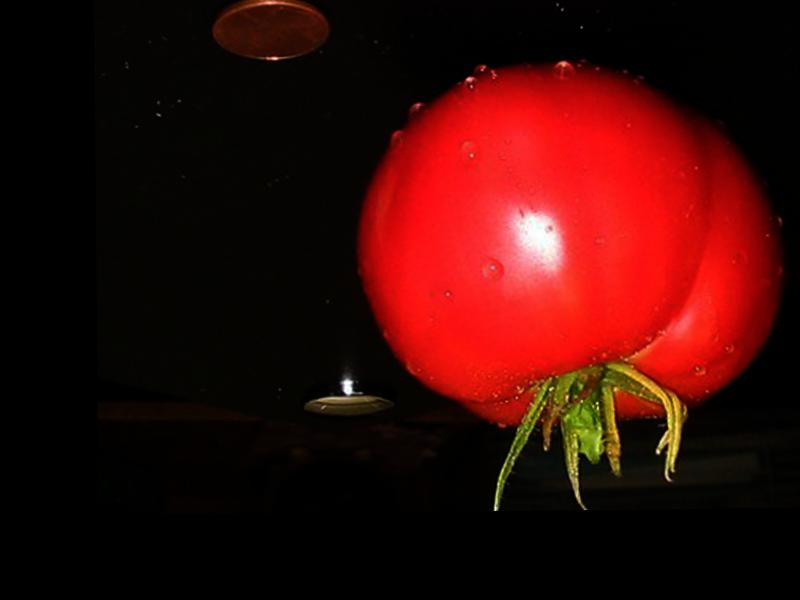Tomato: (355, 57, 789, 430)
